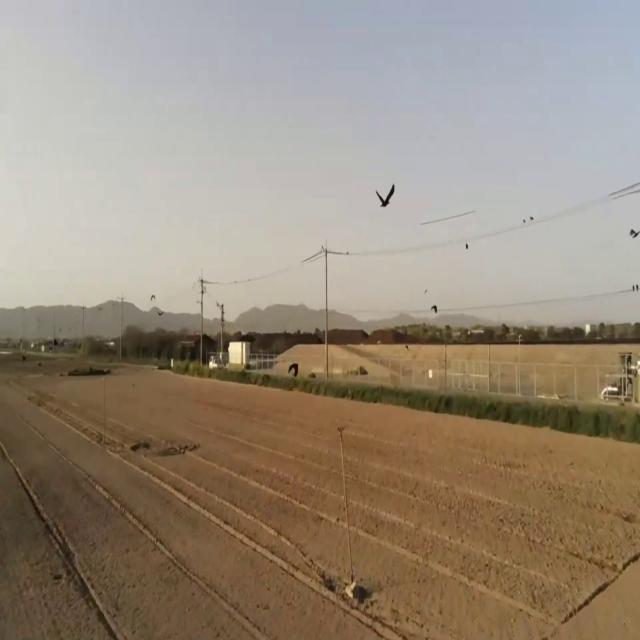bird: (375, 180, 395, 216), (630, 221, 640, 242), (432, 298, 438, 318), (465, 239, 469, 254)
